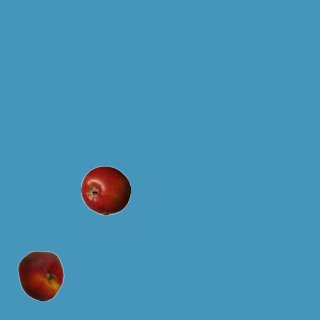Apple Braeburn: (80, 165, 130, 215)
Nectarine Flat: (15, 250, 65, 300)
